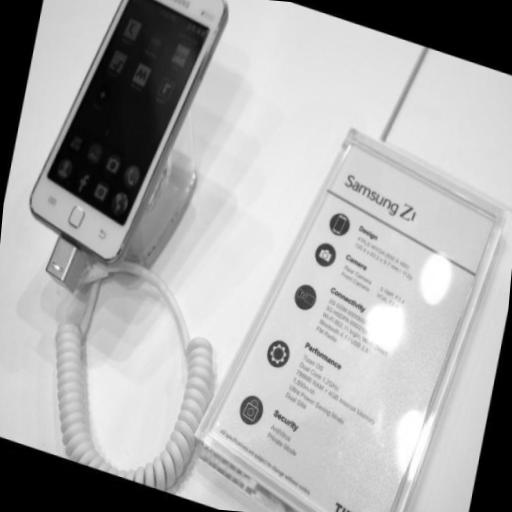phone: (24, 0, 235, 263)
